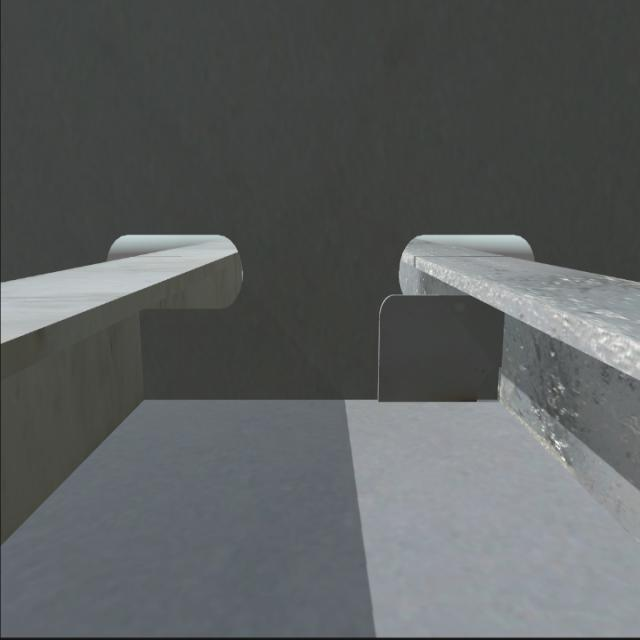fillet_yong_jeop_jang: (140, 393, 502, 406)
longi_yong_jeop_jang: (134, 306, 154, 412), (496, 300, 509, 380)
plate_CP05: (376, 292, 510, 403)
